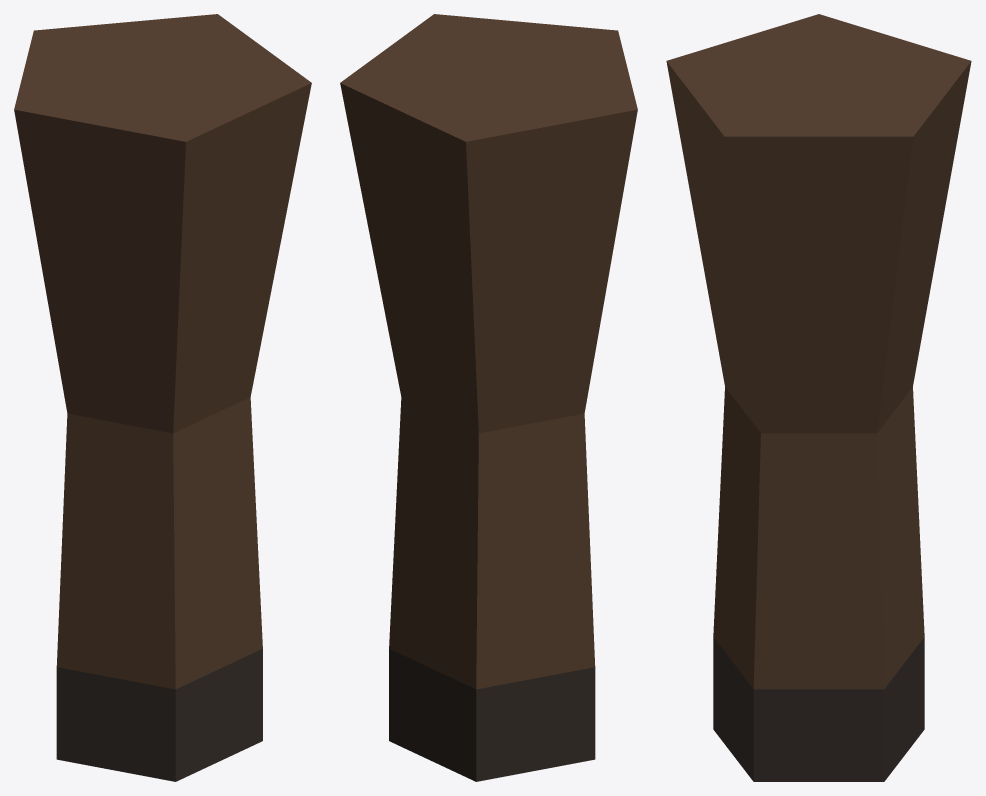
Rendered from animal_bison_leg.obj.
3 views of the same model, side by side, from view 1: azimuth 30°, elevation 25°; view 2: azimuth 150°, elevation 25°; view 3: azimuth 270°, elevation 25° (orthographic).
Parts seen in each view (by area): view 1: animal_bison_leg; view 2: animal_bison_leg; view 3: animal_bison_leg.
Boxes of the visible parts, bbox=[...] form: animal_bison_leg: bbox=[14, 14, 311, 781]; animal_bison_leg: bbox=[340, 14, 637, 781]; animal_bison_leg: bbox=[666, 14, 971, 781].
Bounding box in the file's own units: 0.208 × 0.5234 × 0.2186.
